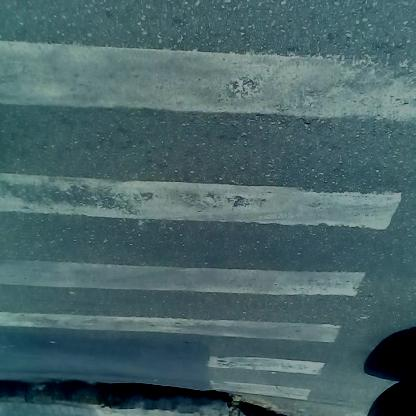crosswalk: (21, 27, 382, 386)
